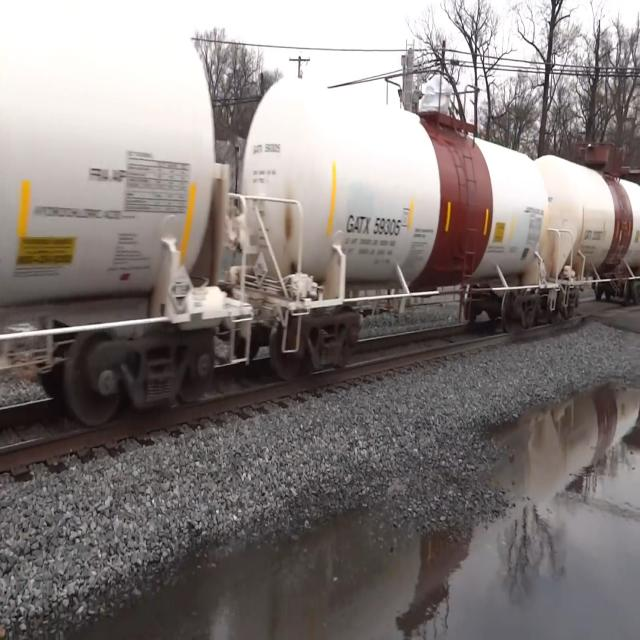tank: (231, 56, 574, 384), (0, 7, 242, 447), (534, 141, 640, 319)
